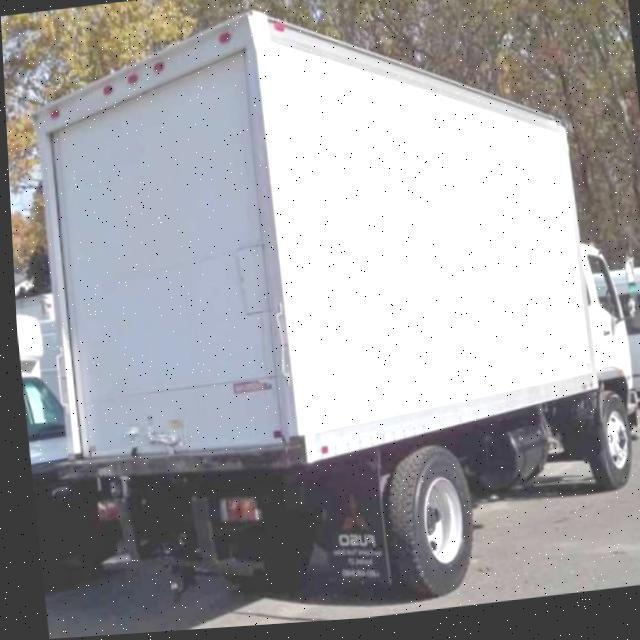truck: (23, 0, 640, 630)
